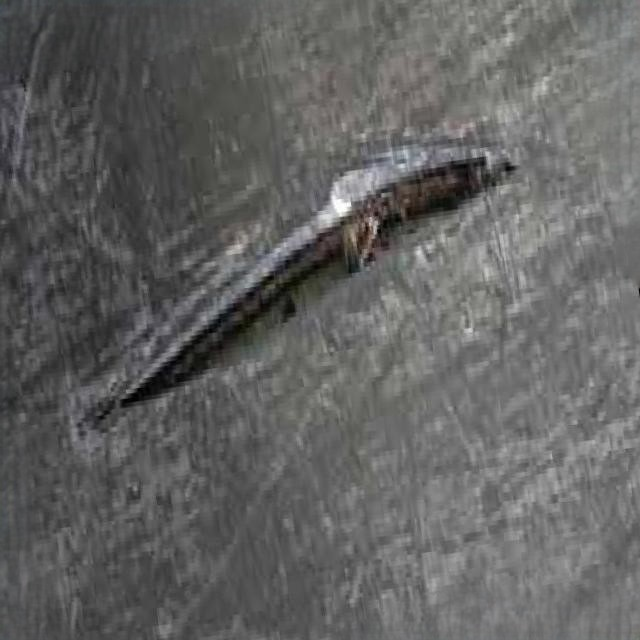Tear: (96, 134, 535, 435)
